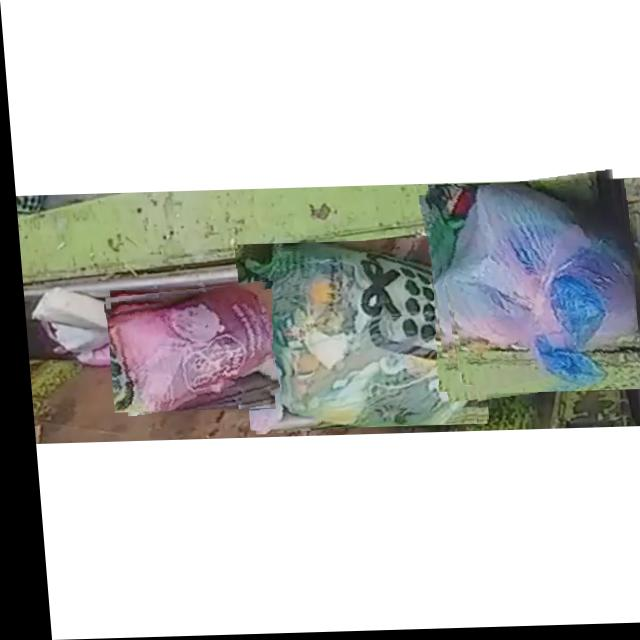general_trashbag: (235, 249, 471, 428)
other_trashbag: (437, 188, 632, 390), (102, 286, 267, 412)
